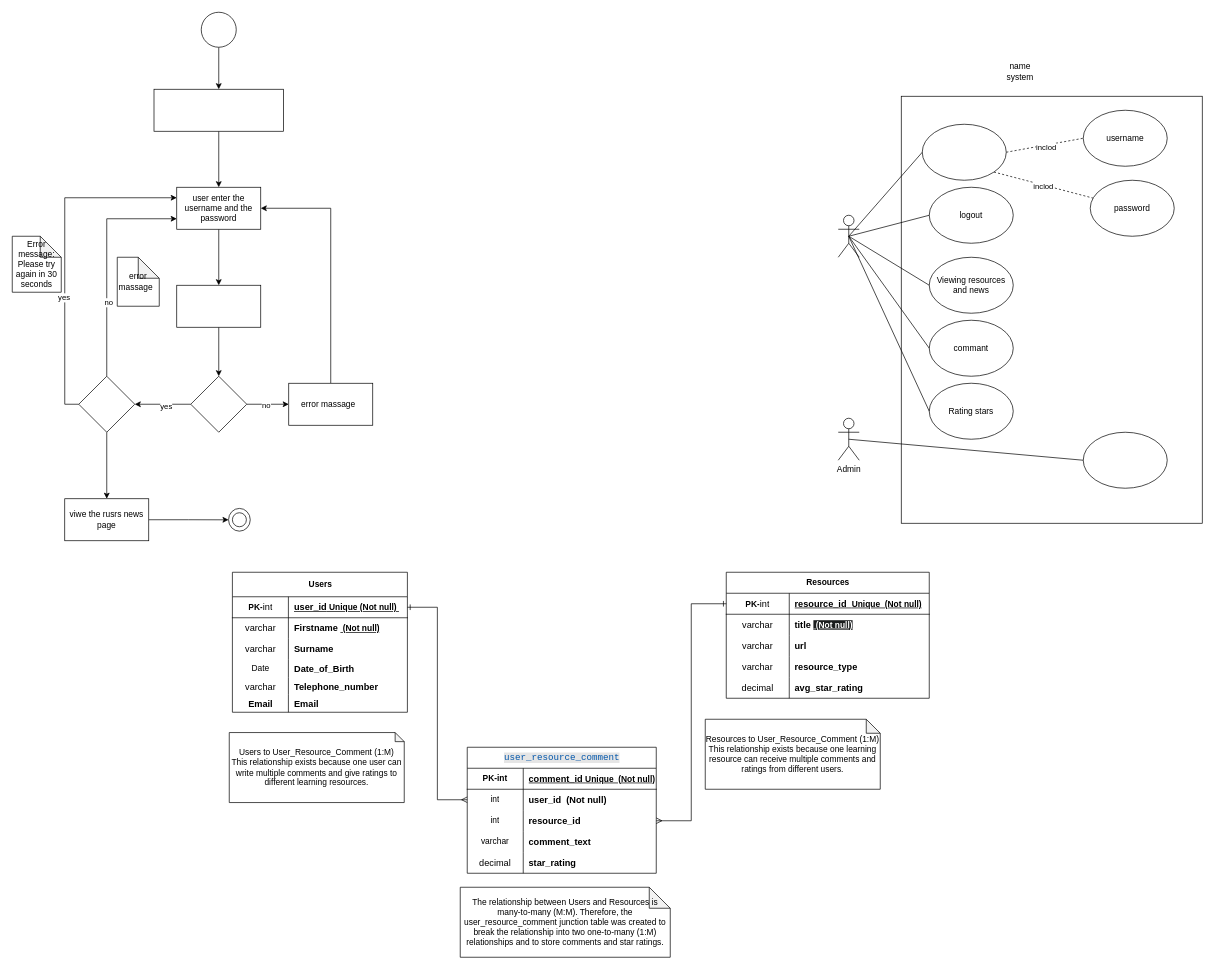
The diagram is 1215 pixels wide and 970 high, and some of its shapes have lost their labels. Here are the shapes that lost their labels. From the top down, the centre of each, then its label:
At (x=218, y=110): "disabled login page(username,password,login button)".
At (x=964, y=152): "Secure login".
At (x=848, y=236): "trainees staff".
At (x=218, y=306): "top in login button".
At (x=106, y=404): "check if writ the password 3 times wring".
At (x=218, y=404): "check if the password is correct or no".
At (x=1125, y=460): "Accounts management".
